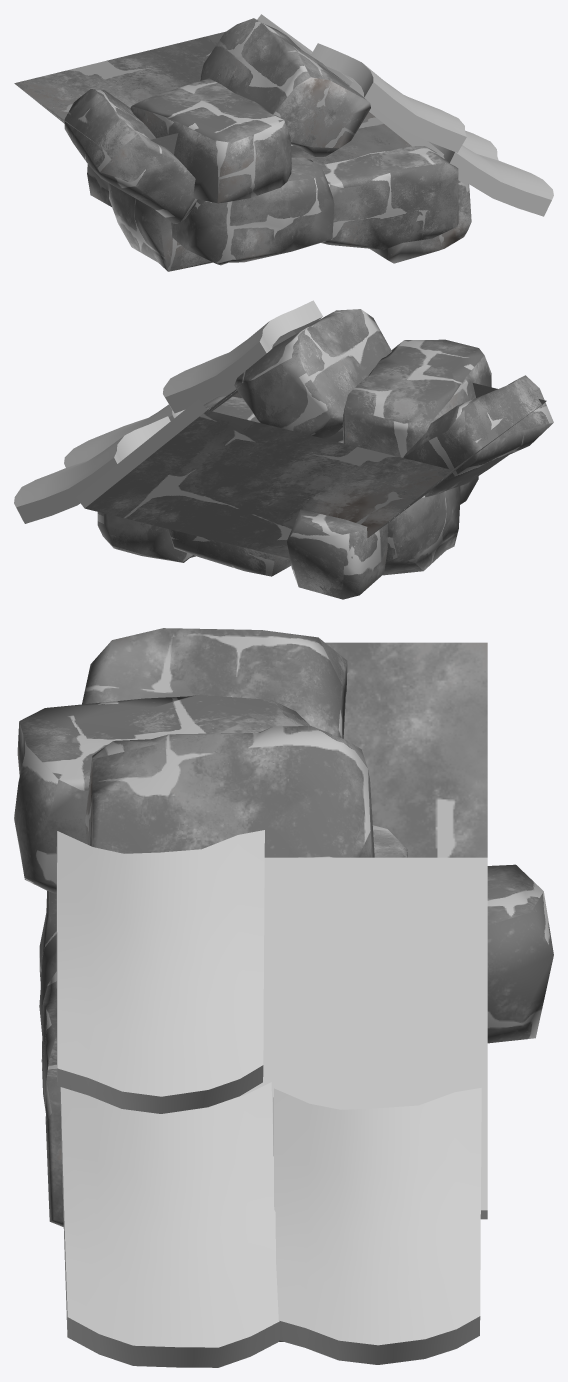
Rendered from Roof_End_Left.fbx.
3 renders of one model, top to bottom at view 1: azimuth 30°, elevation 25°; view 2: azimuth 150°, elevation 25°; view 3: azimuth 270°, elevation 25°, orthographic. The views are drawn at different scales.
Visible parts, largest first — view 1: rock_6.053, Roof.004, Wall.021; view 2: rock_6.053, Wall.021, Roof.004; view 3: Roof.004, rock_6.053, Wall.021.
Part boxes in pixels (bbox=[...]): rock_6.053: bbox=[64, 18, 471, 271]; Roof.004: bbox=[257, 14, 553, 216]; Wall.021: bbox=[14, 31, 411, 165]; rock_6.053: bbox=[97, 309, 553, 599]; Wall.021: bbox=[85, 383, 546, 558]; Roof.004: bbox=[14, 300, 322, 523]; Roof.004: bbox=[56, 830, 487, 1367]; rock_6.053: bbox=[14, 628, 553, 1341]; Wall.021: bbox=[325, 642, 487, 857].
Bounding box in the file's own units: 2.86 × 1.45 × 1.53.
